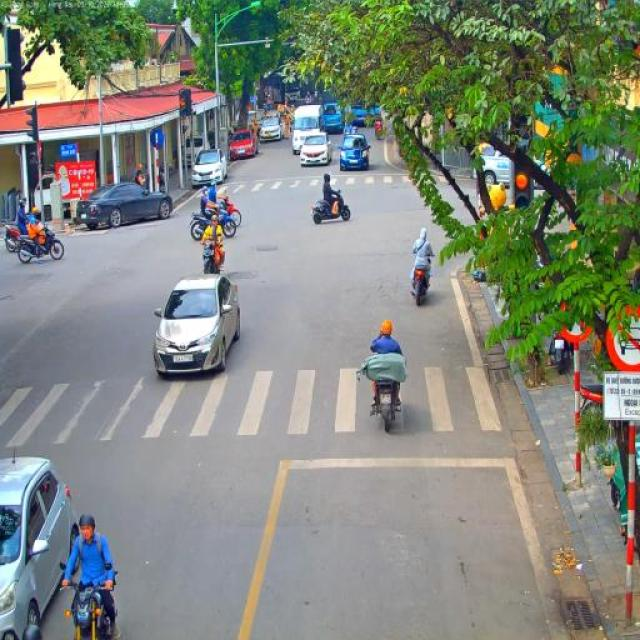car: (0, 455, 79, 640), (153, 272, 242, 378), (76, 182, 175, 229), (481, 148, 539, 187), (192, 148, 228, 187), (338, 134, 371, 170), (299, 132, 333, 166), (228, 130, 258, 160), (260, 118, 284, 142)
motorcycle: (59, 561, 120, 640), (16, 222, 66, 264), (369, 378, 403, 433), (187, 208, 237, 242), (310, 190, 352, 224), (410, 254, 434, 307), (547, 329, 569, 375), (3, 223, 36, 253), (202, 233, 226, 274), (215, 195, 243, 229), (374, 120, 384, 140), (305, 95, 311, 105)
truck: (33, 163, 76, 222), (291, 104, 324, 155), (320, 92, 344, 136), (279, 75, 301, 105), (352, 104, 379, 128)
